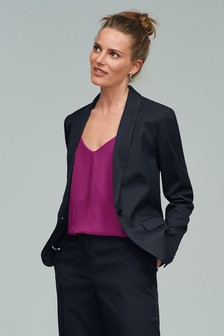F_W_suit jacket: (31, 98, 210, 256)
